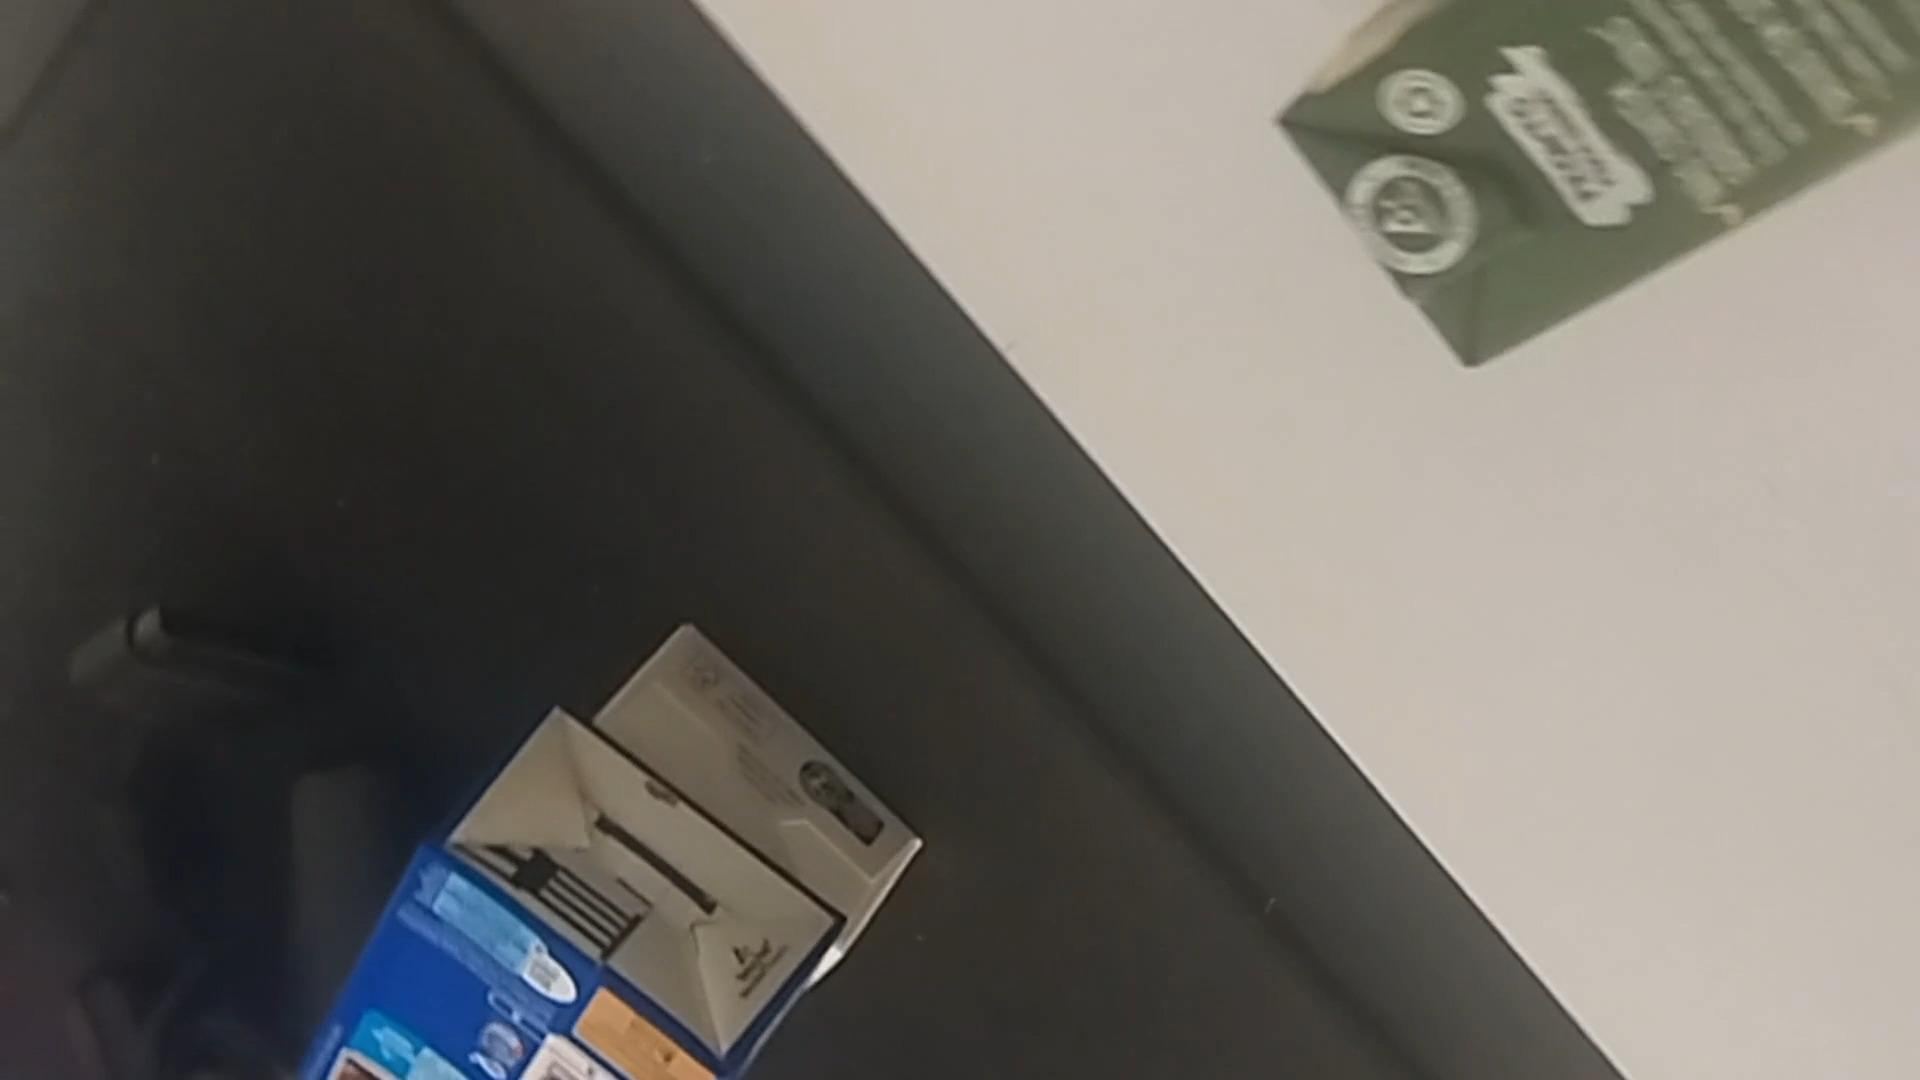coco: (1258, 0, 1920, 380)
